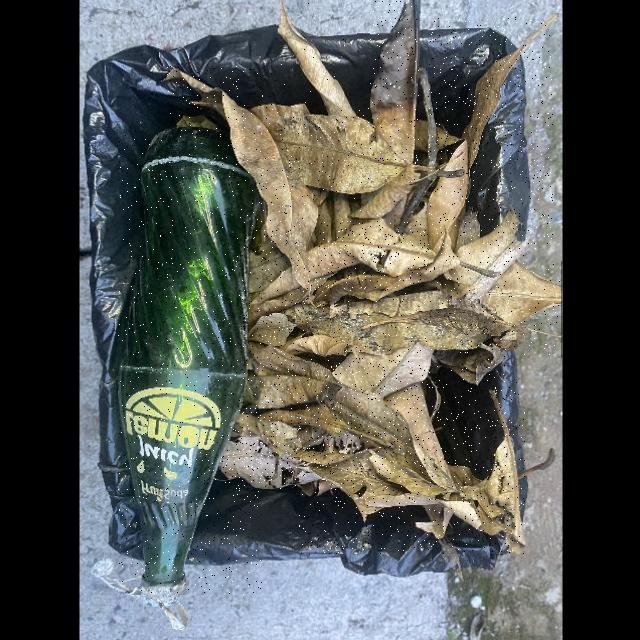biowaste: (299, 382, 525, 553), (166, 66, 313, 295), (428, 17, 553, 252), (284, 261, 562, 358), (253, 230, 462, 346), (326, 343, 434, 476), (254, 103, 408, 194), (276, 1, 357, 116), (238, 403, 385, 466), (303, 221, 435, 291), (370, 1, 419, 165), (449, 207, 530, 302), (244, 344, 341, 407), (220, 435, 315, 489), (245, 239, 307, 319), (283, 159, 321, 267), (432, 338, 505, 386), (242, 373, 341, 408), (352, 165, 416, 218)
glass: (119, 130, 262, 595)
